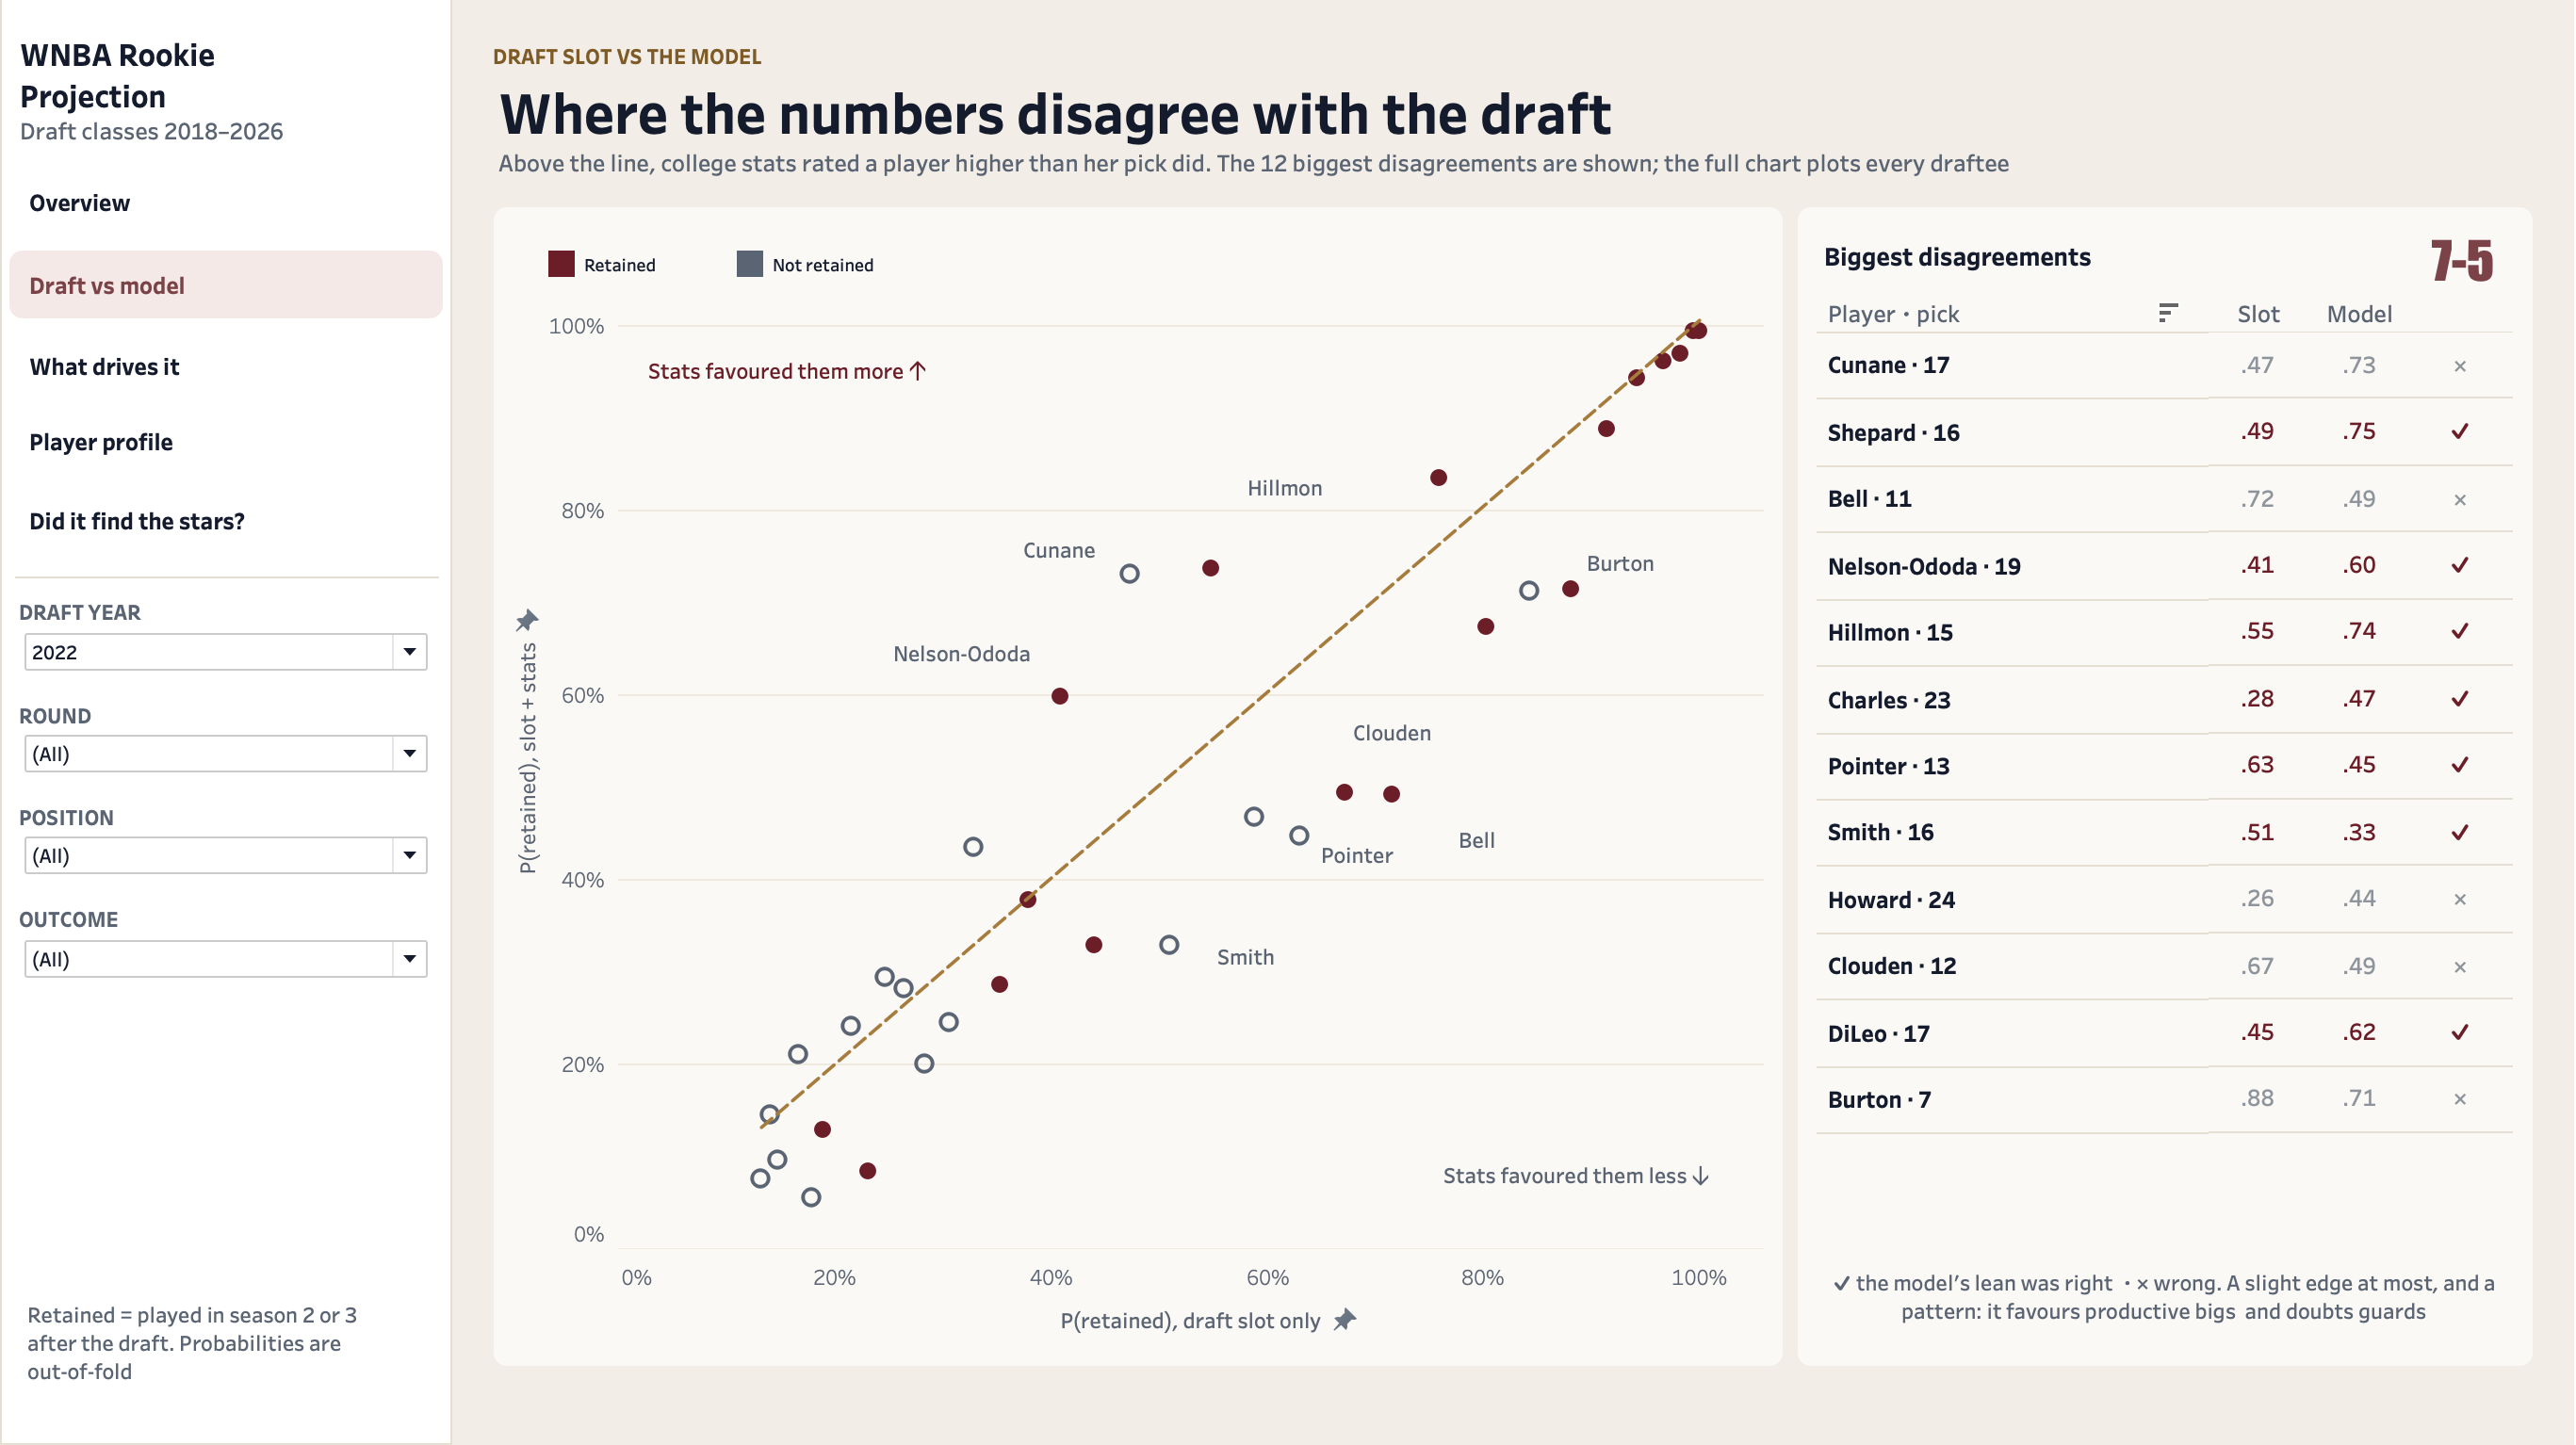

This screenshot's page, from the dashboard's own definition file:
{"tool":"tableau","page":{"name":"Draft vs model","canvas":[1366,768],"ordinal":0},"visuals":[{"type":"text","box":[240,0,1126,40]},{"type":"text","box":[1,1,238,85]},{"type":"legend","title":"Disagreements ","param":"[federated.1tov7ef0a1y3je15hmmro1g4q6js].[none:Calculation_1981855941869571:nk]","box":[1198,8,160,66]},{"type":"text","box":[240,40,1126,61]},{"type":"text","box":[1,86,238,44]},{"type":"dashboard-object","box":[7,90,229,38]},{"type":"worksheet","title":"Scatter","mark":"Automatic","rows":["P(Retained) - Full Model","Calculation_1981855935557632"],"cols":["P(Retained) - Draft Slot"],"box":[258,107,692,623]},{"type":"worksheet","title":"Disagreements ","mark":"Automatic","rows":["Calculation_1981855945924612"],"box":[950,107,398,623]},{"type":"text","box":[1288,123,44,33]},{"type":"text","box":[1,130,238,44]},{"type":"legend","title":"Scatter","param":"[federated.1tov7ef0a1y3je15hmmro1g4q6js].[none:Outcome:nk]","box":[288,131,318,21]},{"type":"dashboard-object","box":[5,134,229,38]},{"type":"text","box":[1,174,238,42]},{"type":"dashboard-object","box":[5,178,229,38]},{"type":"text","box":[1,216,238,39]},{"type":"dashboard-object","box":[5,216,229,39]},{"type":"text","box":[1,255,238,44]},{"type":"dashboard-object","box":[5,255,229,45]},{"type":"filter","title":"Scatter","param":"[federated.1tov7ef0a1y3je15hmmro1g4q6js].[none:Draft Year:ok]","box":[1,299,238,70]},{"type":"blank","box":[8,307,225,1]},{"type":"filter","title":"Scatter","param":"[federated.1tov7ef0a1y3je15hmmro1g4q6js].[none:Round:ok]","box":[1,369,238,54]},{"type":"filter","title":"Scatter","param":"[federated.1tov7ef0a1y3je15hmmro1g4q6js].[none:Position:nk]","box":[1,423,238,54]},{"type":"filter","title":"Scatter","param":"[federated.1tov7ef0a1y3je15hmmro1g4q6js].[none:Outcome:nk]","box":[1,477,238,59]},{"type":"text","box":[1,687,238,53]}]}

Visuals, with their boxes in screenshot pixels (x1, y1, x2, y2), scaled from the page's 1366x768 canvas onto the 2576x1445 screenshot:
text: 452,0,2575,75
text: 2,2,450,162
"Disagreements " legend: 2259,15,2561,139
text: 452,75,2575,190
text: 2,162,450,245
dashboard-object: 13,170,445,241
"Scatter" worksheet: 486,202,1791,1373
"Disagreements " worksheet: 1791,202,2542,1373
text: 2429,232,2512,294
text: 2,245,450,328
"Scatter" legend: 543,247,1143,286
dashboard-object: 9,252,441,324
text: 2,328,450,406
dashboard-object: 9,335,441,406
text: 2,406,450,479
dashboard-object: 9,406,441,479
text: 2,479,450,562
dashboard-object: 9,479,441,564
"Scatter" filter: 2,562,450,694
blank: 15,577,439,579
"Scatter" filter: 2,694,450,796
"Scatter" filter: 2,796,450,898
"Scatter" filter: 2,898,450,1009
text: 2,1292,450,1392
